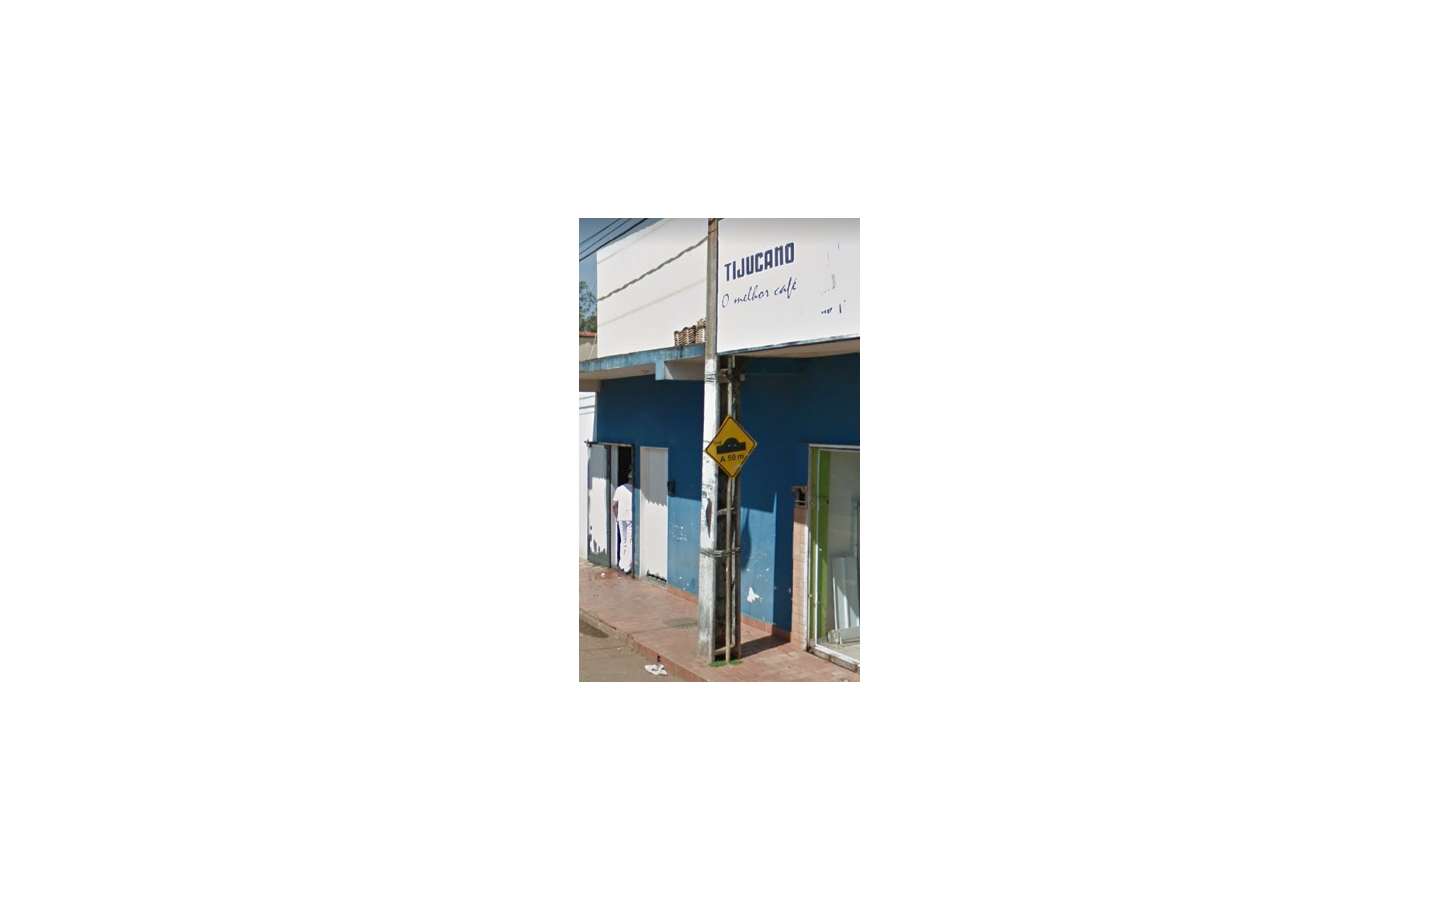l50m: (705, 415, 756, 477)
